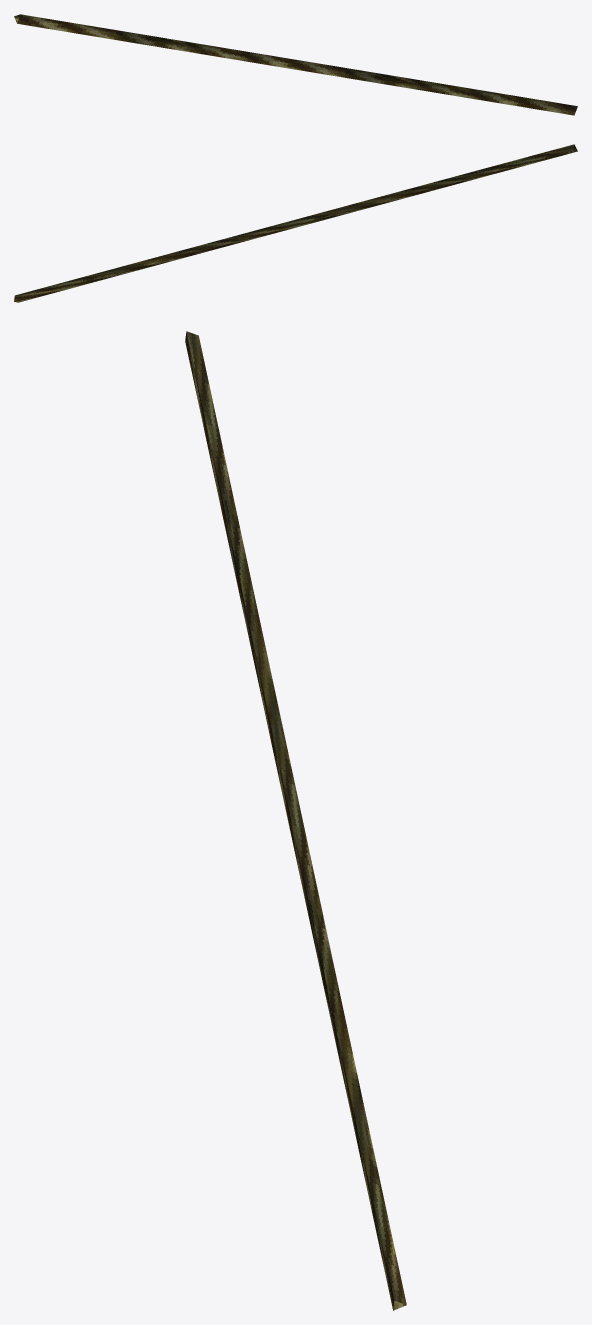
Rendered from OVERHILL_A_01_LINE171.fbx.
3 views of the same model, one above another, from view 1: azimuth 30°, elevation 25°; view 2: azimuth 150°, elevation 25°; view 3: azimuth 270°, elevation 25° (orthographic). The views are drawn at different scales.
Visible parts, largest first — view 1: OVERHILL_A_01_LINE171; view 2: OVERHILL_A_01_LINE171; view 3: OVERHILL_A_01_LINE171.
Part boxes in pixels (left/top/right/bottom): OVERHILL_A_01_LINE171: left=14, top=14, right=577, bottom=115; OVERHILL_A_01_LINE171: left=14, top=144, right=577, bottom=302; OVERHILL_A_01_LINE171: left=185, top=331, right=406, bottom=1310.
Bounding box in the file's own units: 33325 × 15190 × 6263.
1 material, 1 textured.
